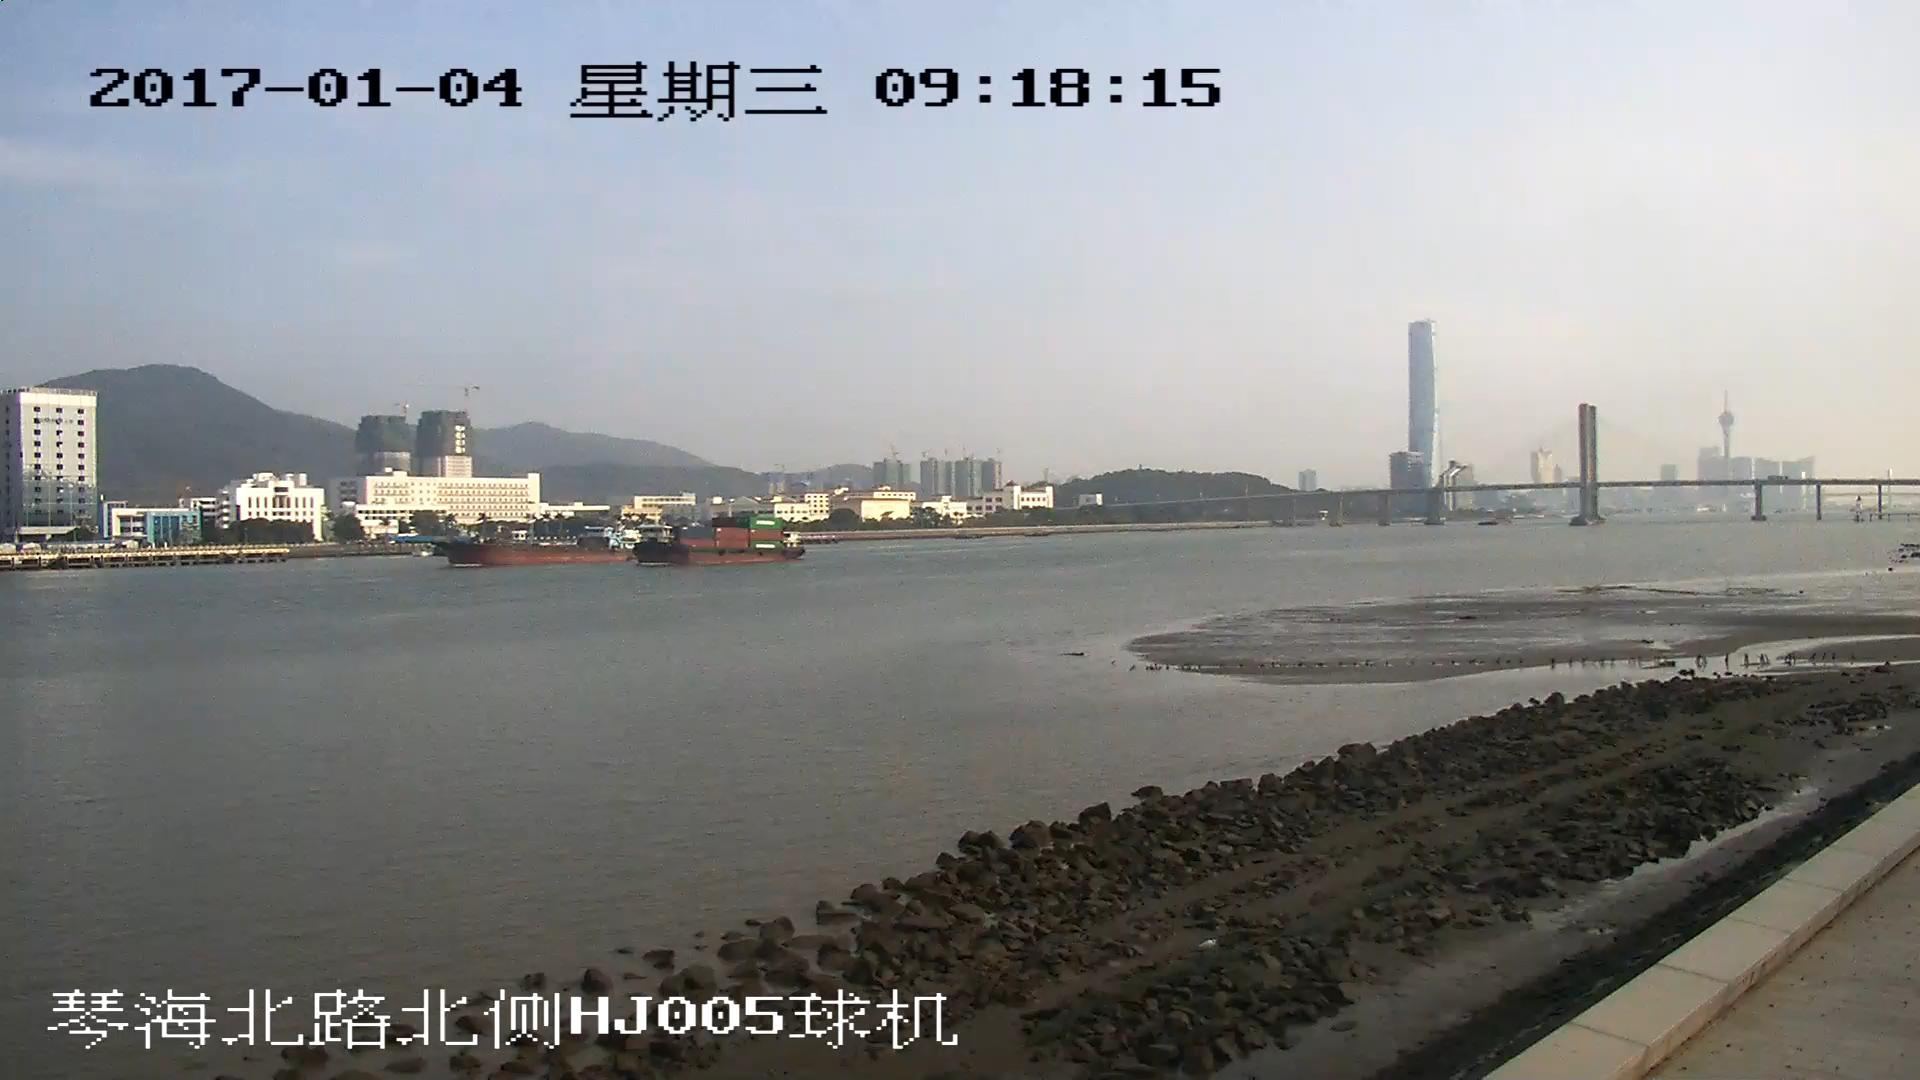Ship: (636, 518, 800, 566), (444, 527, 625, 564)
